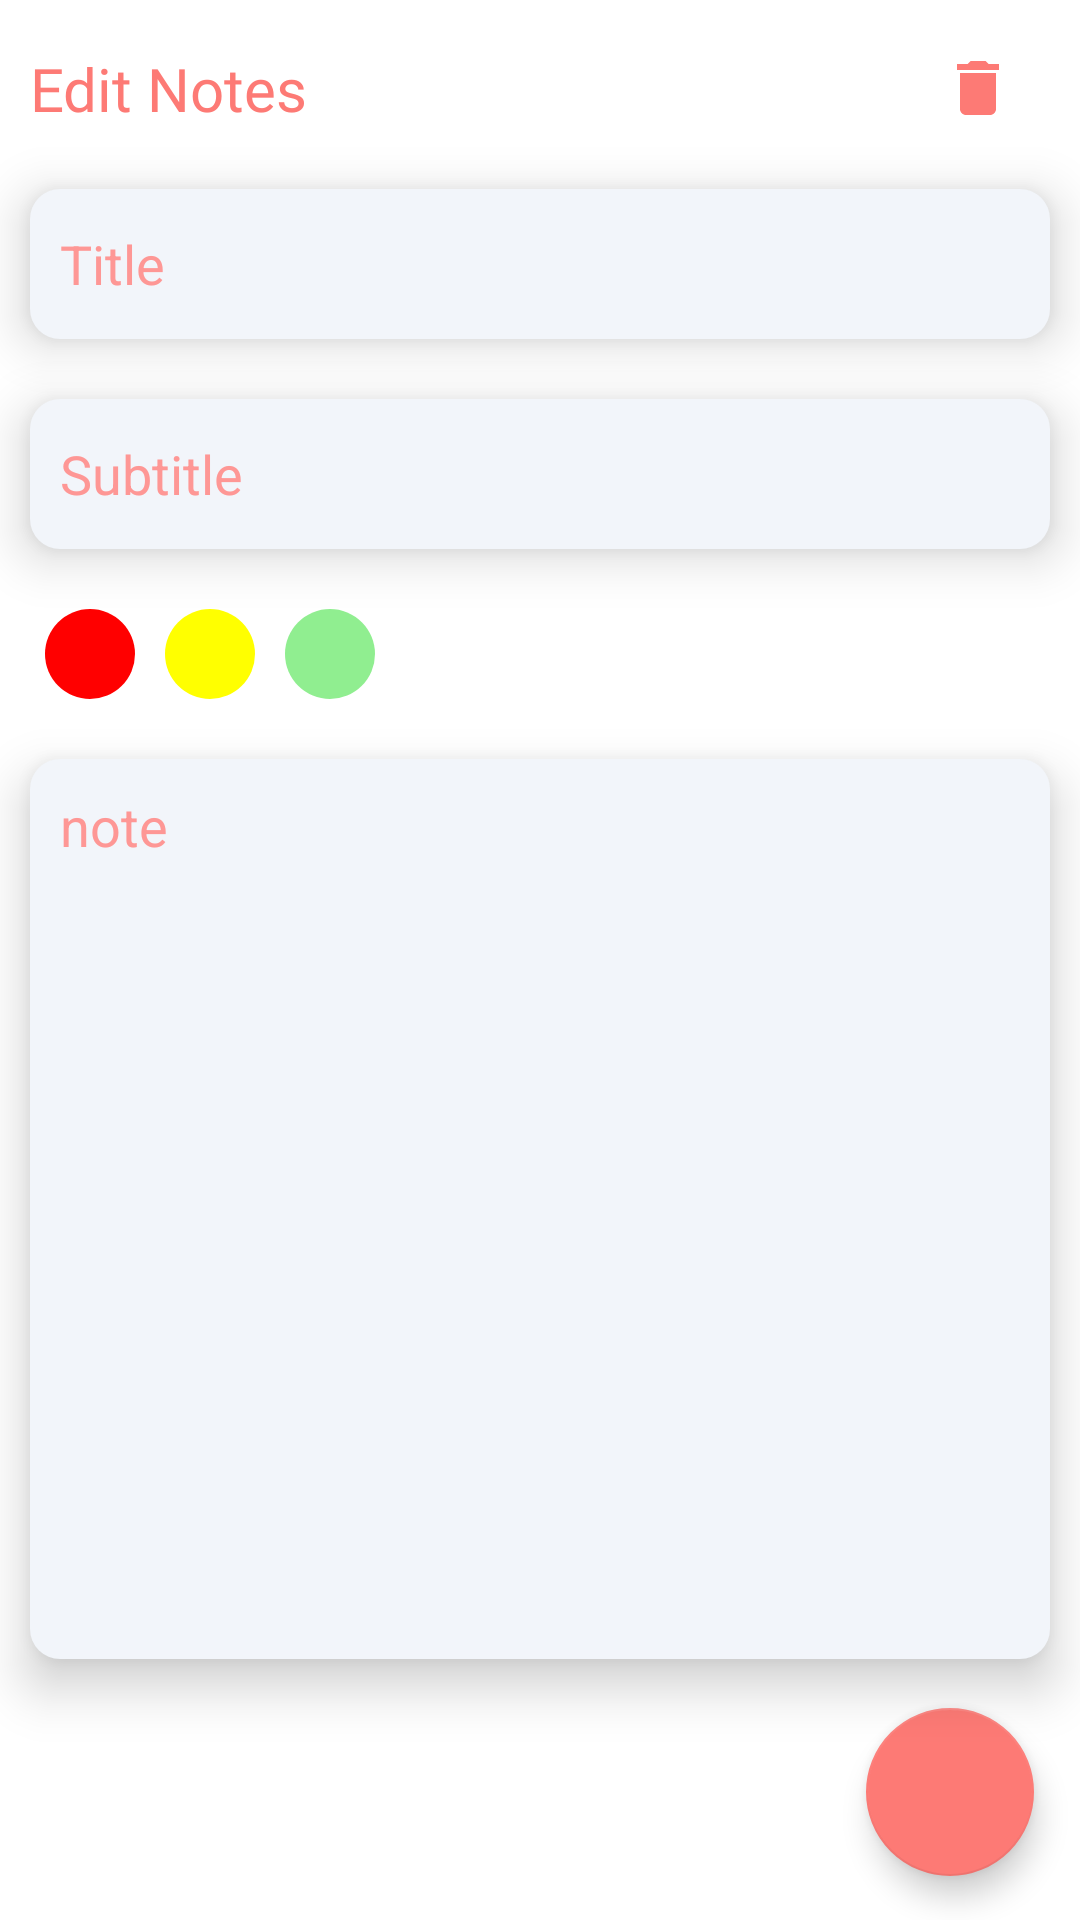

Locate icon controls on the screen. Image size 1080w x 1920h, boxes as bbox=[x1, y1, x2, y2].
delete: bbox=[957, 61, 999, 115]
